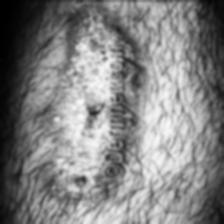Non-Cancerous Skin Condition: (55, 10, 108, 200)
